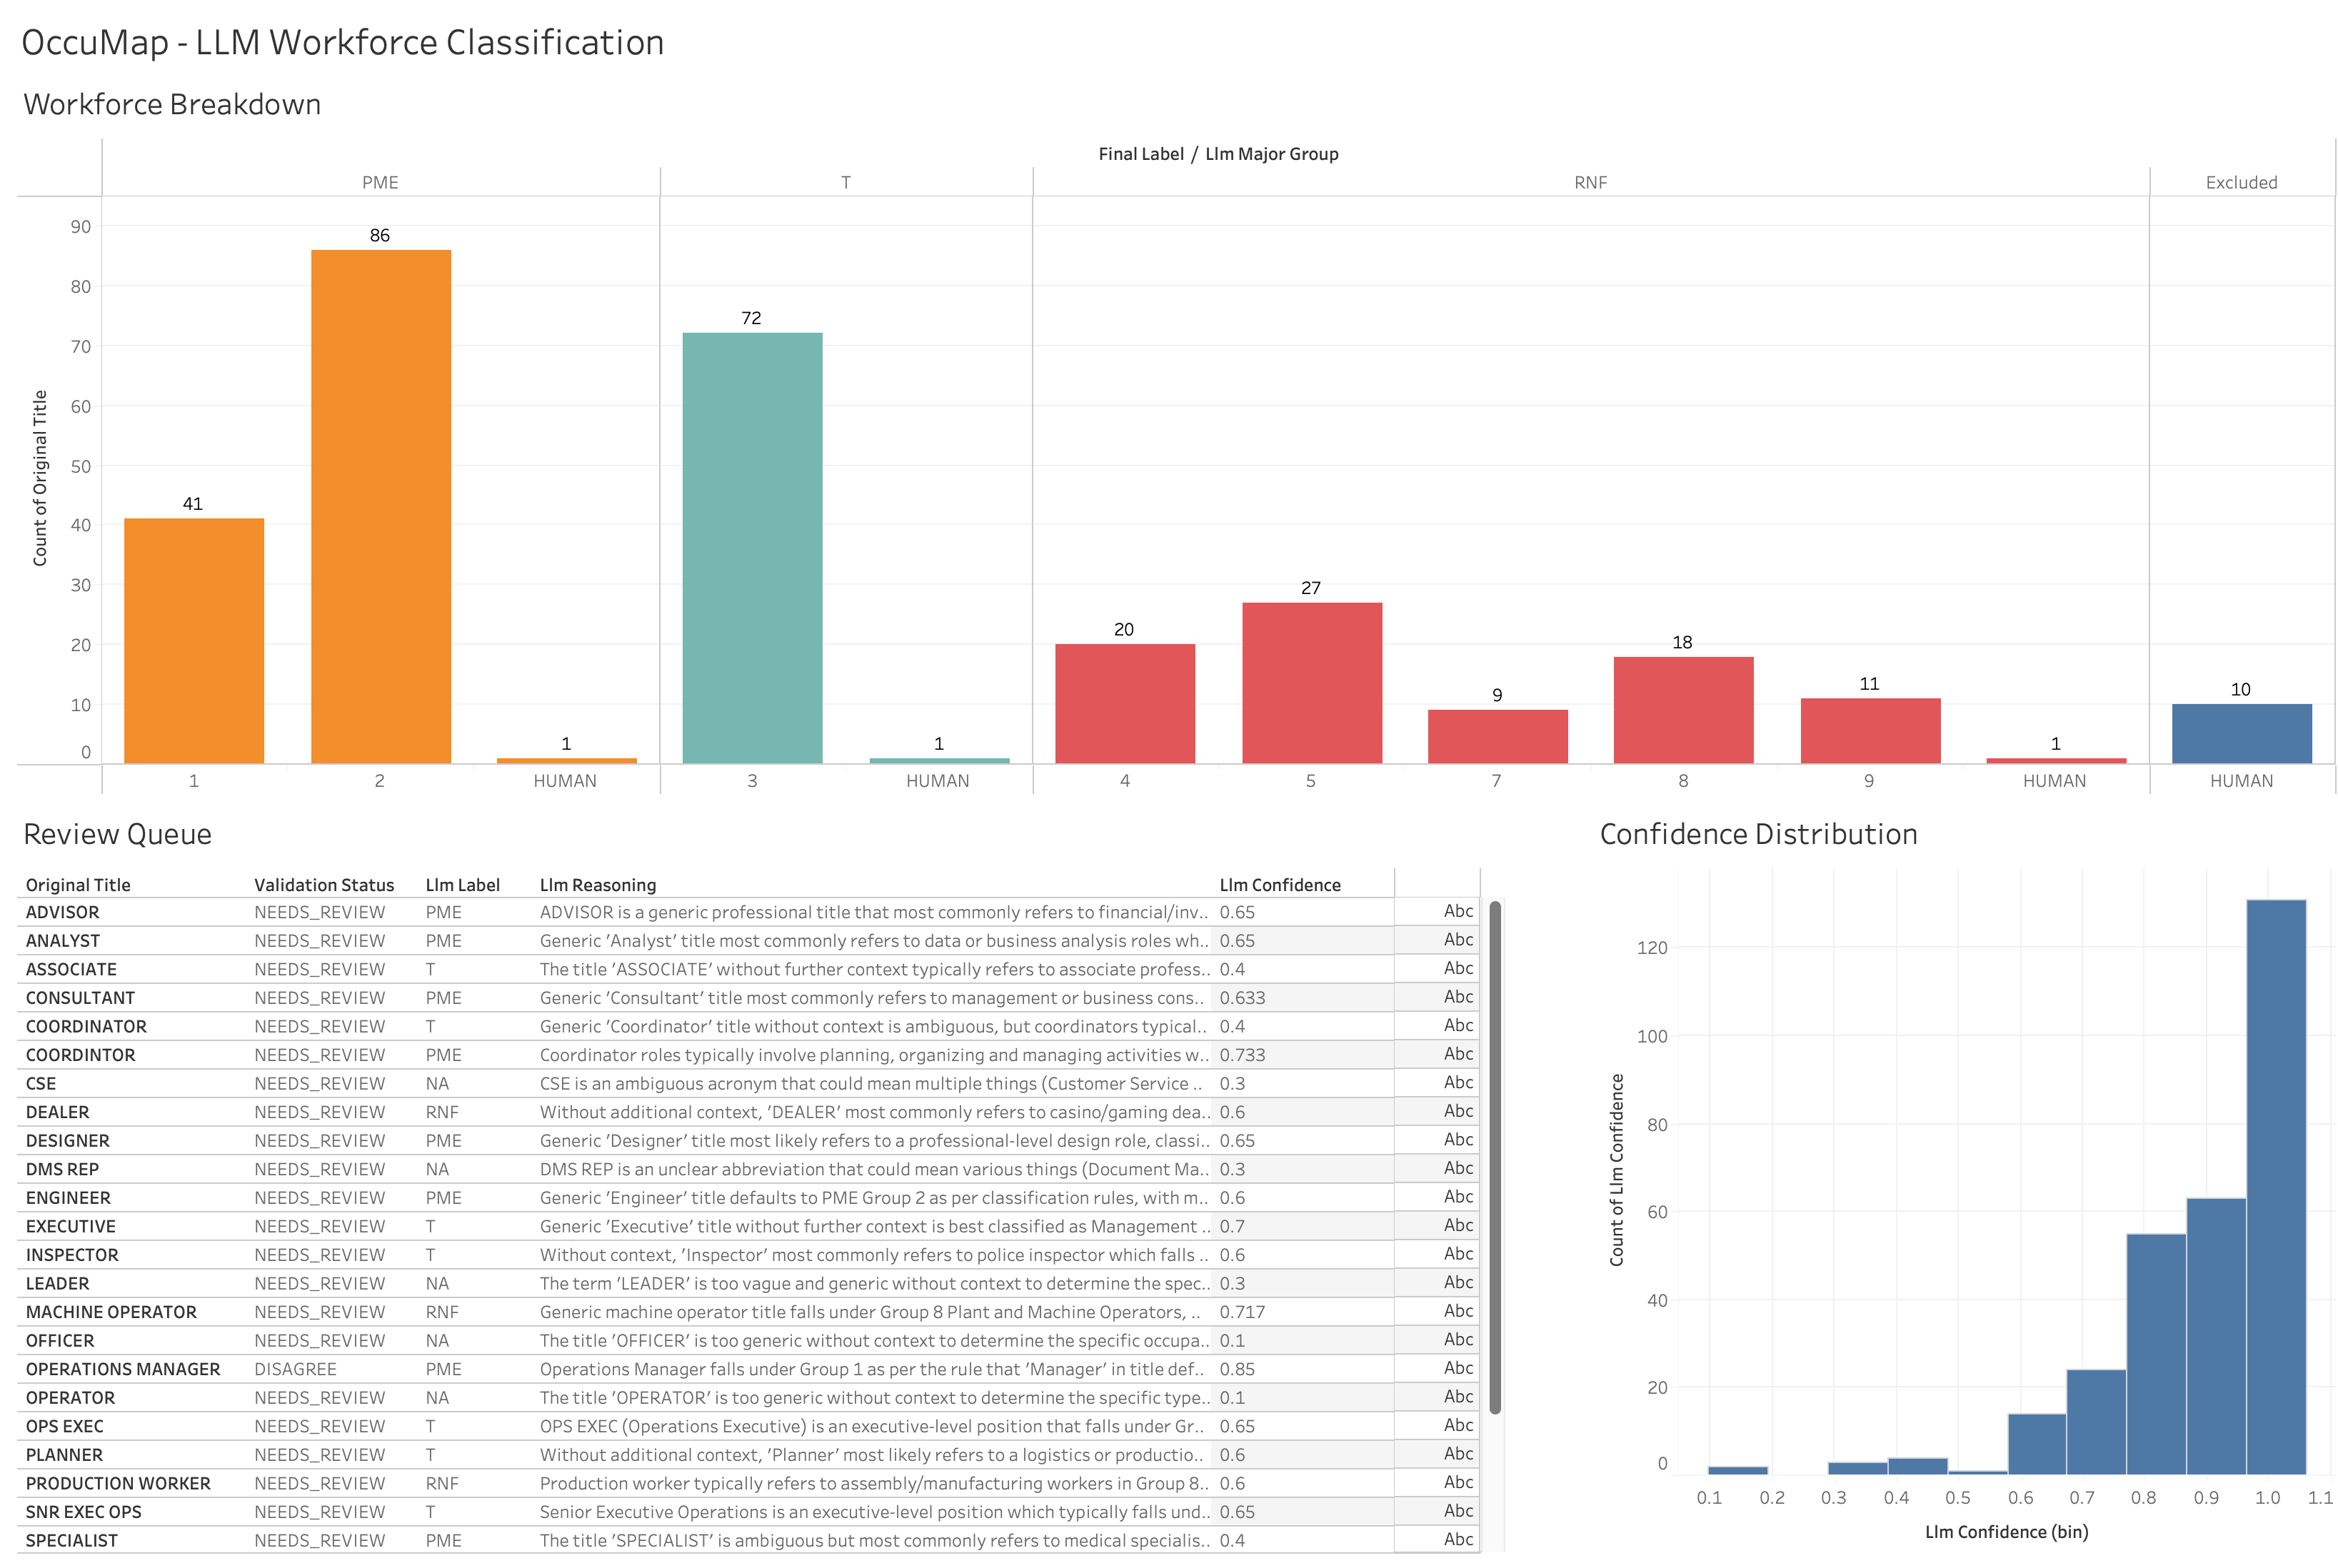

Layout of this report page (visuals, bound fields, positions):
{"tool":"tableau","page":{"name":"OccuMap - LLM Workforce Classification","canvas":[1000,1000],"units":"permille","ordinal":0},"visuals":[{"type":"title","box":[5,7.9,894.3,41.6]},{"type":"filter","title":"Workforce Breakdown","param":"[federated.066zbyg0g5cgce1g1cyfu1yn8q2d].[none:label_source:nk]","box":[899.3,7.9,95.7,88.1]},{"type":"worksheet","title":"Workforce Breakdown","mark":"Automatic","rows":["original_title"],"cols":["final_label","llm_major_group"],"box":[5,49.5,894.3,505.9]},{"type":"filter","title":"Workforce Breakdown","param":"[federated.066zbyg0g5cgce1g1cyfu1yn8q2d].[none:validation_status:nk]","box":[899.3,96,95.7,125.7]},{"type":"legend","title":"Workforce Breakdown","param":"[federated.066zbyg0g5cgce1g1cyfu1yn8q2d].[none:final_label:nk]","box":[899.3,221.8,95.7,105]},{"type":"worksheet","title":"Review Queue","mark":"Automatic","rows":["original_title","validation_status","llm_label","llm_reasoning","llm_confidence"],"box":[5,555.4,605,436.6]},{"type":"worksheet","title":"Confidence Distribution","mark":"Automatic","rows":["llm_confidence"],"cols":["Llm Confidence (bin)"],"box":[610.1,555.4,289.2,436.6]}]}

Visuals, with their boxes on the dashboard's canvas, which has no fixed pixel size, in thousandths of its width and height (x1, y1, x2, y2). These are canvas units, not pixel positions in the 2338x1568 screenshot, which may show the page scaled, cropped or inside an application window:
title: bbox=[5, 8, 899, 50]
"Workforce Breakdown" filter: bbox=[899, 8, 995, 96]
"Workforce Breakdown" worksheet: bbox=[5, 50, 899, 555]
"Workforce Breakdown" filter: bbox=[899, 96, 995, 222]
"Workforce Breakdown" legend: bbox=[899, 222, 995, 327]
"Review Queue" worksheet: bbox=[5, 555, 610, 992]
"Confidence Distribution" worksheet: bbox=[610, 555, 899, 992]
